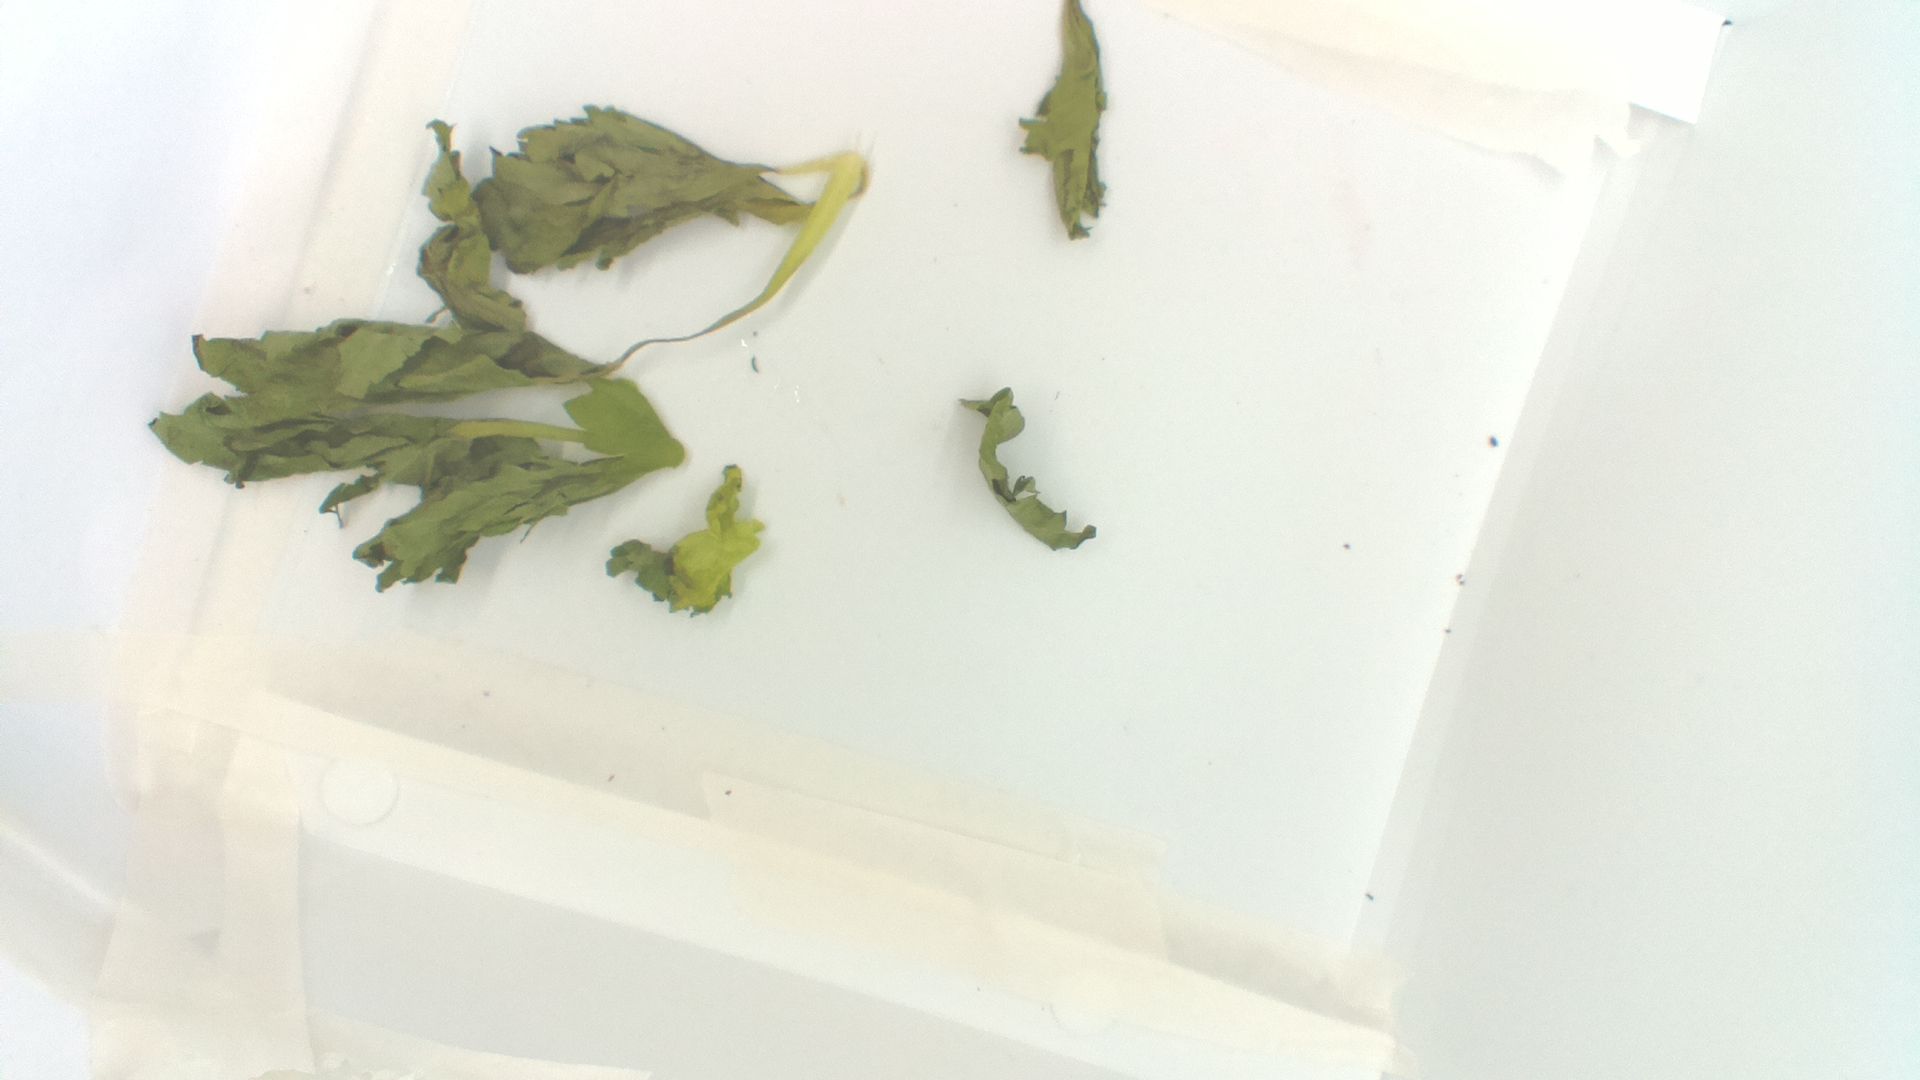vegetable: (149, 3, 1120, 622)
